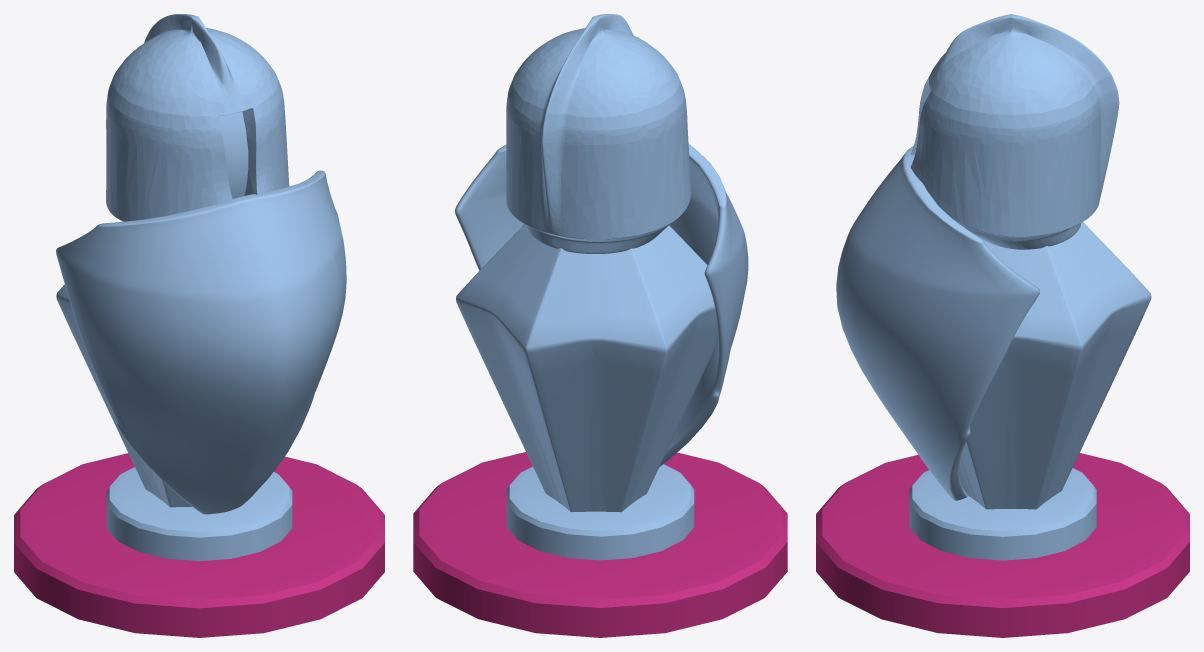
File: pawn.glb
3 views of the same model, side by side, from view 1: azimuth 30°, elevation 25°; view 2: azimuth 150°, elevation 25°; view 3: azimuth 270°, elevation 25° (orthographic).
Parts seen in each view (by area): view 1: Cylinder027, Cylinder020, Object076; view 2: Cylinder027, Cylinder020, Object076; view 3: Cylinder027, Cylinder020, Object076.
Part boxes in pixels (x1=…): Cylinder027: x1=56, y1=111, x2=346, y2=561; Cylinder020: x1=14, y1=453, x2=384, y2=637; Object076: x1=106, y1=14, x2=289, y2=221; Cylinder027: x1=455, y1=144, x2=748, y2=560; Cylinder020: x1=413, y1=452, x2=787, y2=637; Object076: x1=506, y1=14, x2=691, y2=253; Cylinder027: x1=836, y1=145, x2=1151, y2=560; Cylinder020: x1=816, y1=453, x2=1189, y2=637; Object076: x1=910, y1=14, x2=1119, y2=249.
Size of the model in its own units: 0.0377 by 0.0594 by 0.0371.
